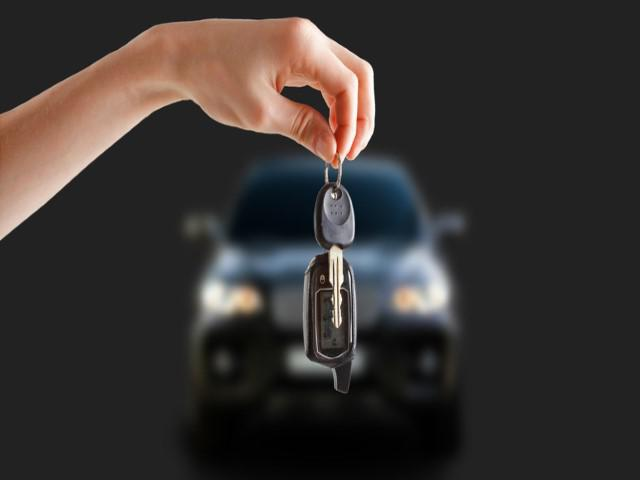key: (314, 181, 356, 356)
